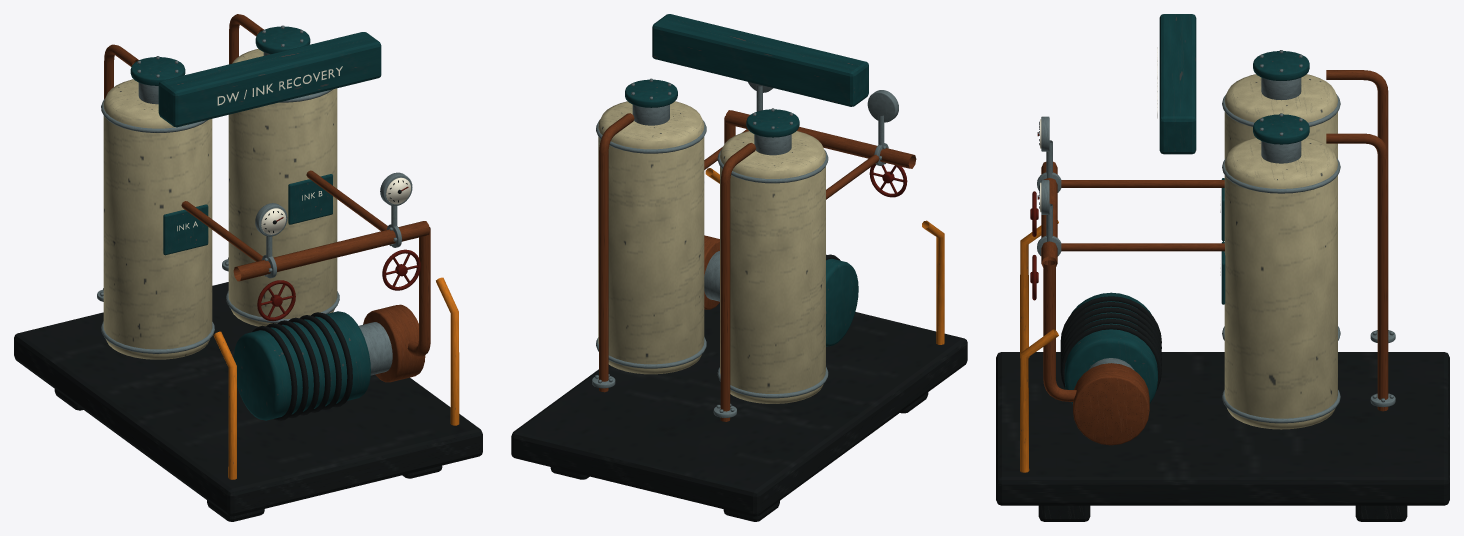
The model's file is duplex-ink-recovery.glb.
3 views of the same model, side by side, from view 1: azimuth 30°, elevation 25°; view 2: azimuth 150°, elevation 25°; view 3: azimuth 270°, elevation 25° (orthographic). The views are drawn at different scales.
Visible parts, largest first — view 1: duplex-ink-recovery | Cast graphite iron, duplex-ink-recovery | Aged ivory enamel, duplex-ink-recovery | Petrol enamel, duplex-ink-recovery | Copper ink plumbing, duplex-ink-recovery | Machined steel, duplex-ink-recovery | Warning ochre, duplex-ink-recovery | Paper and gauge face, duplex-ink-recovery | Dark red enamel; view 2: duplex-ink-recovery | Aged ivory enamel, duplex-ink-recovery | Cast graphite iron, duplex-ink-recovery | Petrol enamel, duplex-ink-recovery | Copper ink plumbing, duplex-ink-recovery | Machined steel, duplex-ink-recovery | Warning ochre, duplex-ink-recovery | Dark red enamel; view 3: duplex-ink-recovery | Cast graphite iron, duplex-ink-recovery | Aged ivory enamel, duplex-ink-recovery | Copper ink plumbing, duplex-ink-recovery | Petrol enamel, duplex-ink-recovery | Machined steel, duplex-ink-recovery | Warning ochre, duplex-ink-recovery | Dark red enamel.
Boxes of the visible parts, x1,y1,x2,y2 form: duplex-ink-recovery | Cast graphite iron: (14,180,482,521); duplex-ink-recovery | Aged ivory enamel: (103,48,337,359); duplex-ink-recovery | Petrol enamel: (130,26,381,420); duplex-ink-recovery | Copper ink plumbing: (104,14,430,382); duplex-ink-recovery | Machined steel: (97,25,412,375); duplex-ink-recovery | Warning ochre: (213,277,459,479); duplex-ink-recovery | Paper and gauge face: (177,66,410,234); duplex-ink-recovery | Dark red enamel: (257,186,420,320); duplex-ink-recovery | Aged ivory enamel: (598,101,825,403); duplex-ink-recovery | Cast graphite iron: (511,254,967,521); duplex-ink-recovery | Petrol enamel: (625,14,868,346); duplex-ink-recovery | Copper ink plumbing: (599,110,916,421); duplex-ink-recovery | Machined steel: (592,78,898,417); duplex-ink-recovery | Warning ochre: (705,168,944,344); duplex-ink-recovery | Dark red enamel: (869,164,907,197); duplex-ink-recovery | Cast graphite iron: (996,121,1449,521); duplex-ink-recovery | Aged ivory enamel: (1224,74,1337,429); duplex-ink-recovery | Copper ink plumbing: (1041,70,1388,445); duplex-ink-recovery | Petrol enamel: (1064,14,1309,403); duplex-ink-recovery | Machined steel: (1037,50,1395,423); duplex-ink-recovery | Warning ochre: (1020,220,1058,472); duplex-ink-recovery | Dark red enamel: (1030,133,1038,300).
Size of the model in its own units: 1.84 by 2.67 by 2.72.
Materials: 8 (7 with a texture image).
